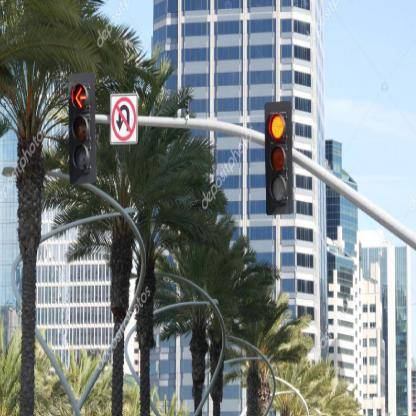left-red: (67, 72, 97, 186)
red: (265, 101, 294, 215)
